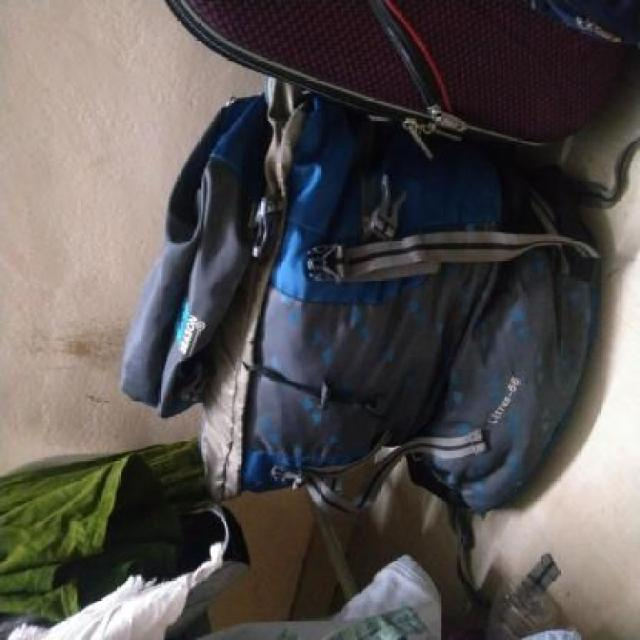backpack: (115, 80, 600, 523)
